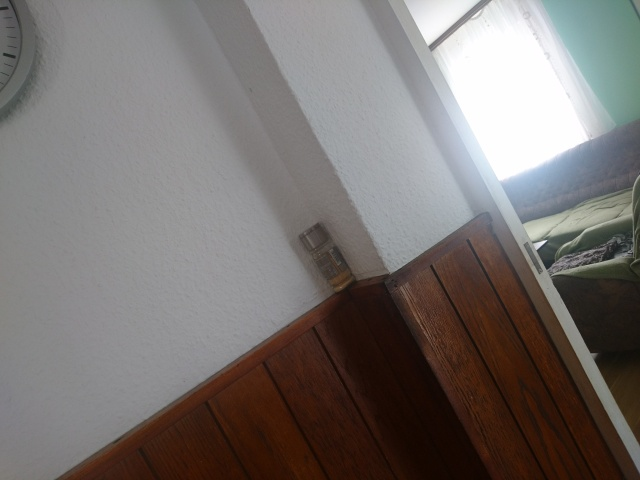Kotanyi Garlic Granules 70g: (295, 219, 358, 295)
